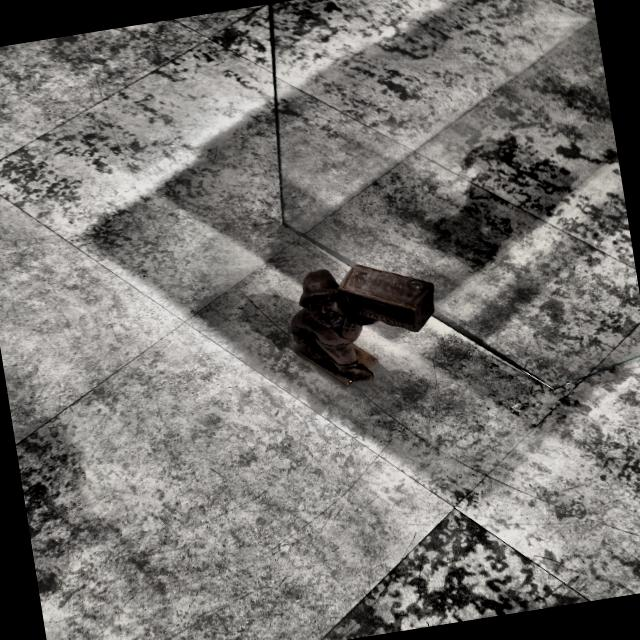GigaHercjusz: (291, 265, 434, 385)
